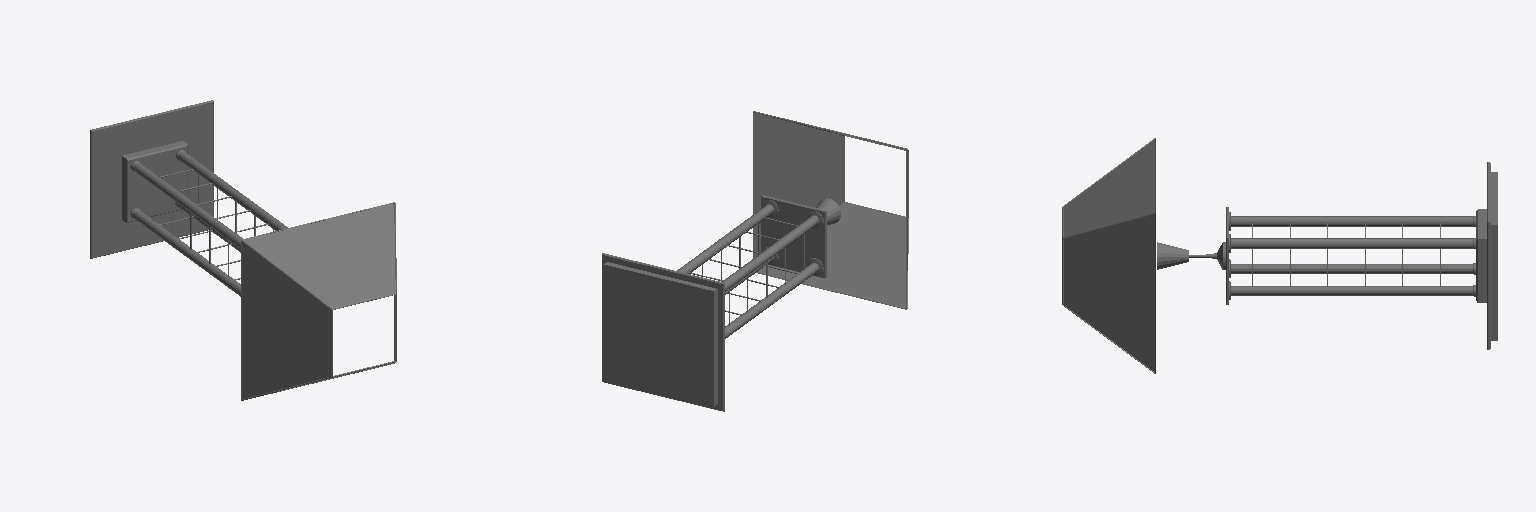
The model's file is lamp2.obj.
3 renders of one model, left to right at view 1: azimuth 30°, elevation 25°; view 2: azimuth 150°, elevation 25°; view 3: azimuth 270°, elevation 25°, orthographic.
Visible parts, largest first — view 1: Box03; view 2: Box03; view 3: Box03.
Part boxes in pixels (x1,y1,x2,y2): Box03: (90, 100, 396, 400); Box03: (602, 111, 908, 411); Box03: (1062, 138, 1497, 373).
Bounding box in the file's own units: 2.38 × 2.38 × 5.81.